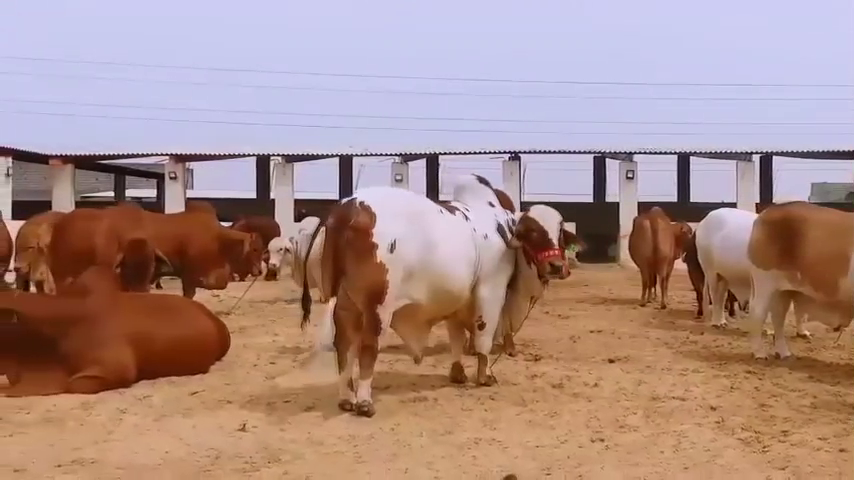bo: (311, 161, 579, 423), (3, 266, 236, 409), (740, 197, 854, 379), (685, 202, 821, 346), (39, 173, 175, 304), (131, 196, 265, 310), (614, 185, 702, 305), (261, 211, 330, 304), (7, 193, 64, 298)
